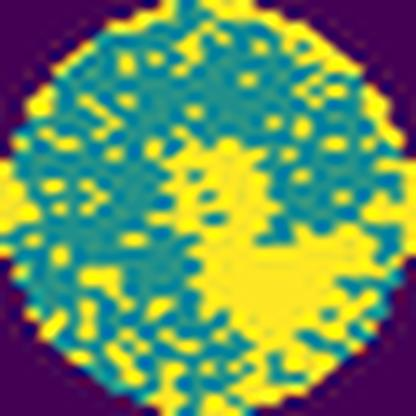Edge-Loc: (141, 122, 385, 408), (77, 264, 139, 314)
